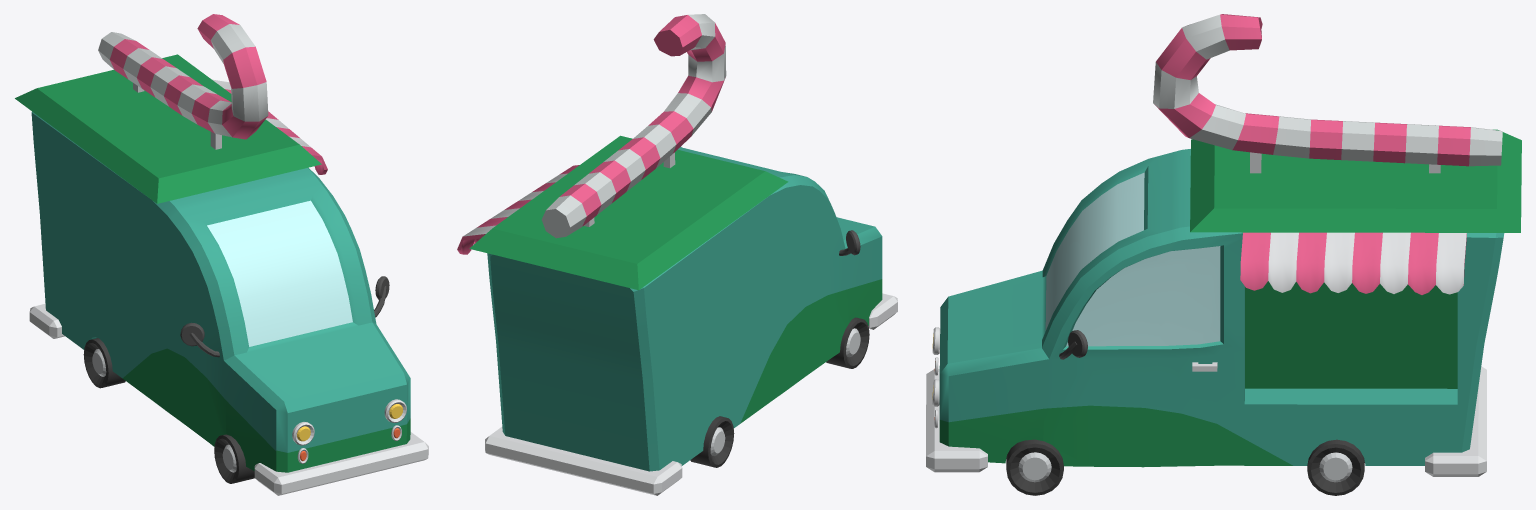
Rendered from candy_car.fbx.
The picture shows the model from 3 angles, left to right: view 1: azimuth 30°, elevation 25°; view 2: azimuth 150°, elevation 25°; view 3: azimuth 270°, elevation 25°; orthographic projection. The views are drawn at different scales.
Visible parts, largest first — view 1: candy_car; view 2: candy_car; view 3: candy_car.
Boxes of the visible parts, <box> form: candy_car: <box>15,14,428,495</box>; candy_car: <box>457,14,897,495</box>; candy_car: <box>926,14,1521,495</box>.
Bounding box in the file's own units: 51.56 × 83.1 × 103.
